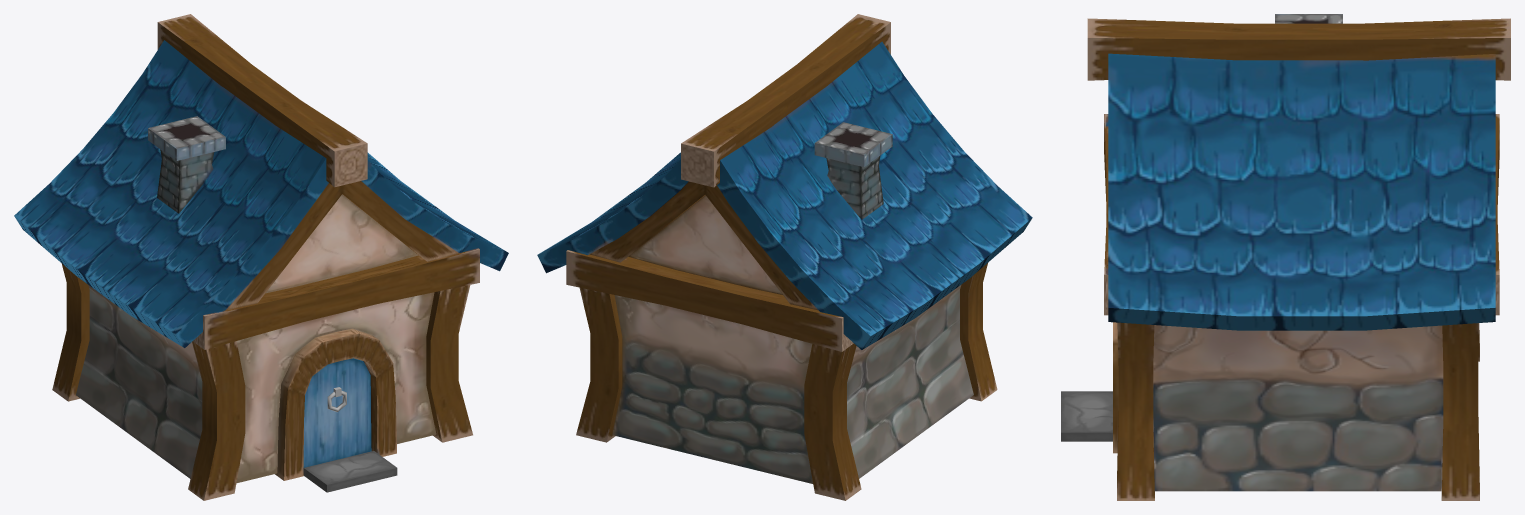
The picture shows the model from 3 angles, left to right: view 1: azimuth 30°, elevation 25°; view 2: azimuth 150°, elevation 25°; view 3: azimuth 270°, elevation 25°; orthographic projection. The views are drawn at different scales.
Parts seen in each view (by area): view 1: Roof, House, Planks_roof, Planks_side, Box010, Door, Planks_below_roof, Chimney, Door_stone; view 2: Roof, House, Planks_roof, Planks_side, Chimney, Planks_below_roof; view 3: Roof, House, Planks_roof, Planks_side, Door_stone, Box010, Chimney.
Part boxes in pixels (x1,y1,x2,y2): Roof: [14, 40, 508, 347]; House: [76, 194, 436, 483]; Planks_roof: [157, 14, 479, 349]; Planks_side: [52, 263, 472, 500]; Box010: [275, 328, 396, 480]; Door: [303, 358, 371, 467]; Planks_below_roof: [226, 181, 458, 309]; Chimney: [148, 116, 225, 213]; Door_stone: [303, 451, 397, 492]; Roof: [537, 41, 1032, 349]; House: [612, 195, 973, 483]; Planks_roof: [566, 14, 890, 351]; Planks_side: [576, 263, 997, 500]; Chimney: [814, 122, 892, 219]; Planks_below_roof: [590, 181, 817, 310]; Roof: [1108, 53, 1495, 330]; House: [1153, 325, 1443, 491]; Planks_roof: [1087, 18, 1510, 315]; Planks_side: [1117, 322, 1479, 500]; Door_stone: [1061, 391, 1112, 441]; Box010: [1113, 322, 1118, 453]; Chimney: [1275, 14, 1342, 23].
Bounding box in the file's own units: 2 × 1.89 × 1.96.
Materials: 1 (1 with a texture image).
